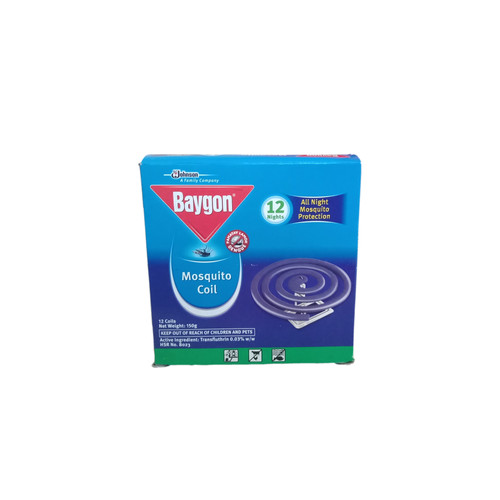Open-Flame-Hazard: (245, 246, 354, 336)
